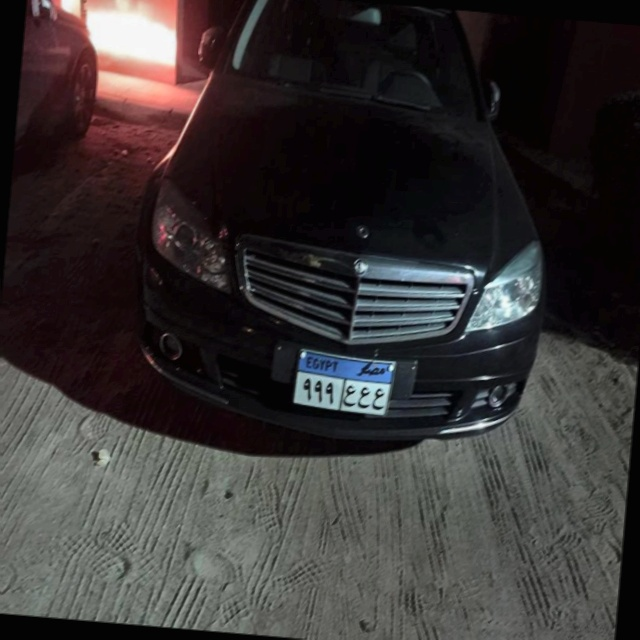License Plate: (289, 347, 397, 421)
